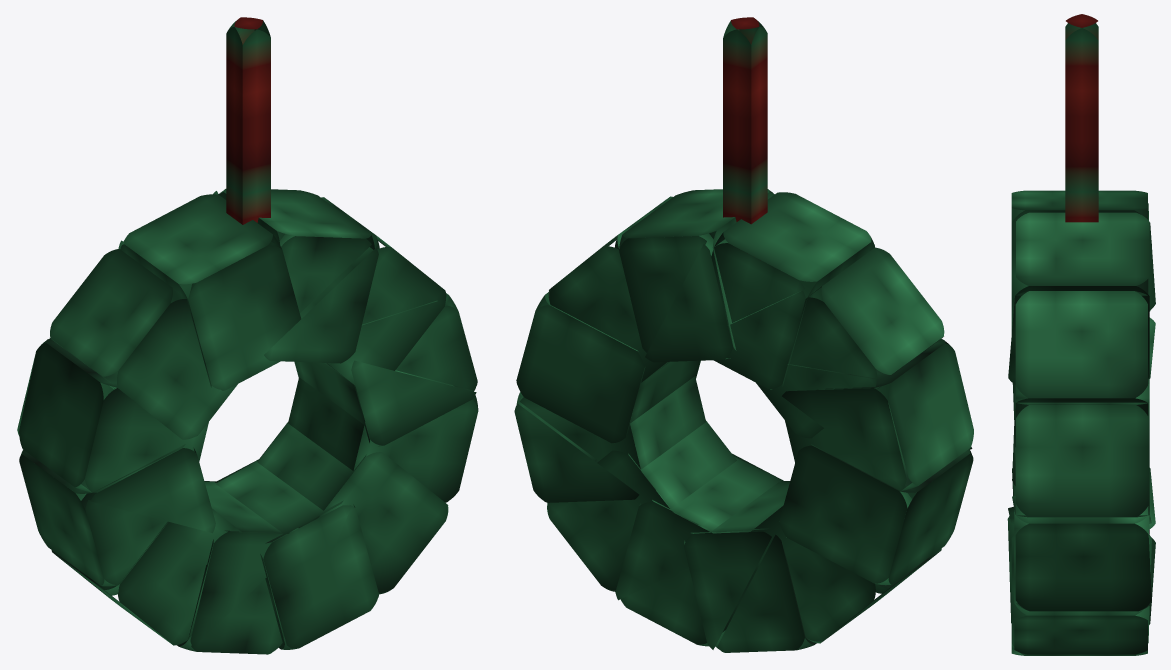
The model's file is jade_bead.obj.
3 views of the same model, side by side, from view 1: azimuth 30°, elevation 25°; view 2: azimuth 150°, elevation 25°; view 3: azimuth 270°, elevation 25° (orthographic).
Parts seen in each view (by area): view 1: lit; view 2: lit; view 3: lit.
Boxes of the visible parts, x1,y1,x2,y2 form: lit: (17, 17, 478, 654); lit: (514, 17, 973, 652); lit: (1007, 14, 1155, 655).
Bounding box in the file's own units: 0.529 × 0.7677 × 0.1692.
